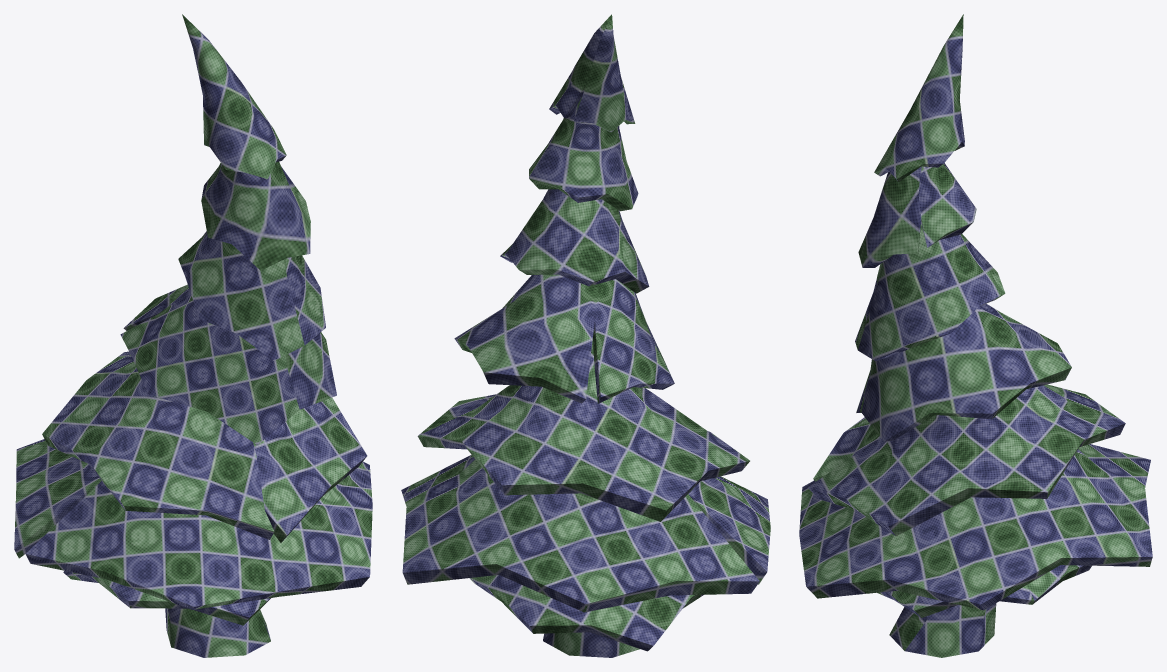
The model's file is SM_Tree_01.FBX.
3 renders of one model, left to right at view 1: azimuth 30°, elevation 25°; view 2: azimuth 150°, elevation 25°; view 3: azimuth 270°, elevation 25°, orthographic. The views are drawn at different scales.
Visible parts, largest first — view 1: SM_Tree_01; view 2: SM_Tree_01; view 3: SM_Tree_01.
Part boxes in pixels (bbox=[...]): SM_Tree_01: bbox=[14, 14, 372, 657]; SM_Tree_01: bbox=[401, 14, 770, 657]; SM_Tree_01: bbox=[799, 14, 1152, 657].
Size of the model in its own units: 124 by 207 by 109.
Materials: 1 (1 with a texture image).
